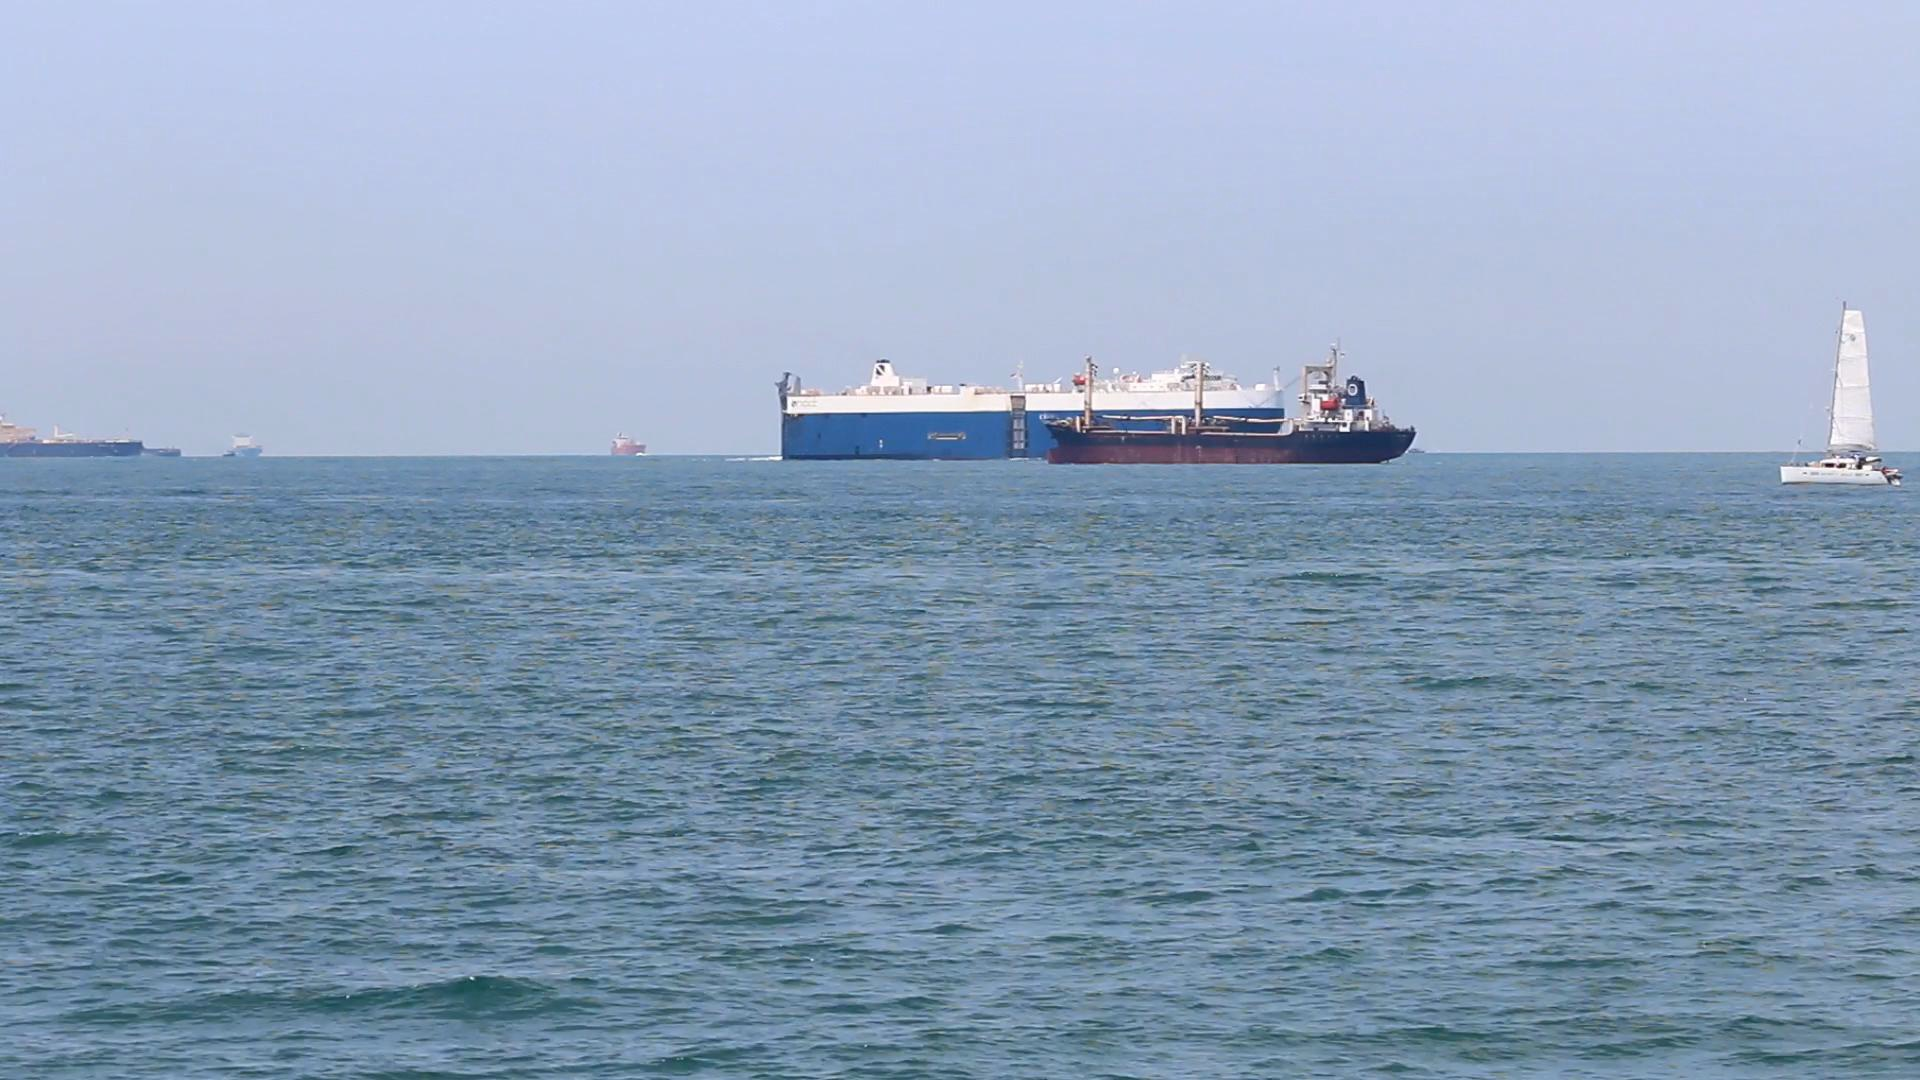Container Ship: (769, 351, 1294, 469), (1023, 334, 1425, 469), (0, 415, 156, 463), (214, 425, 269, 464), (605, 427, 653, 462)
